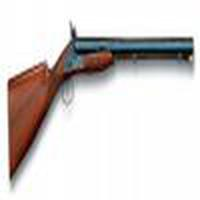gun: (1, 24, 200, 178)
